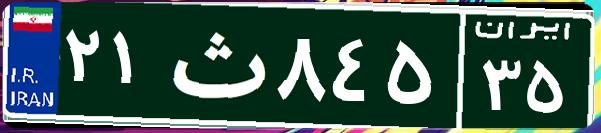1: (110, 28, 158, 105)
2: (57, 26, 110, 107)
3: (475, 38, 525, 113)
4: (330, 28, 385, 110)
5: (385, 28, 445, 110), (525, 38, 570, 115)
8: (273, 28, 330, 110)
ث: (158, 15, 273, 115)
